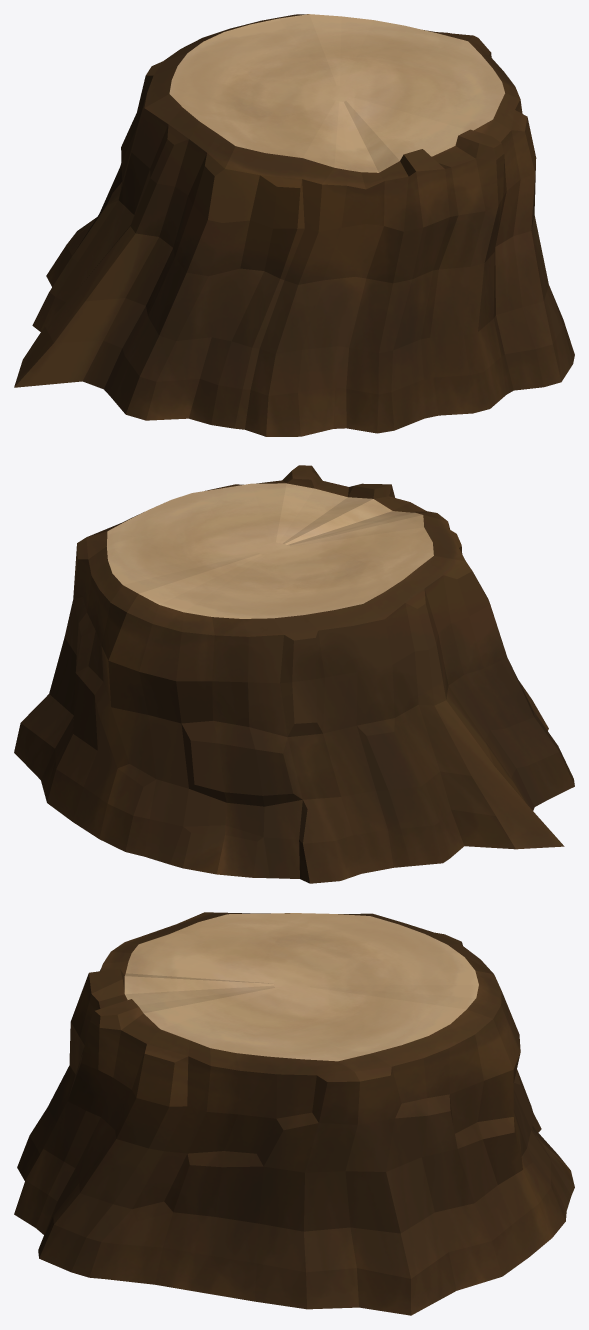
File: Log_B.fbx
3 renders of one model, top to bottom at view 1: azimuth 30°, elevation 25°; view 2: azimuth 150°, elevation 25°; view 3: azimuth 270°, elevation 25°, orthographic. The views are drawn at different scales.
Visible parts, largest first — view 1: Stump; view 2: Stump; view 3: Stump.
Boxes of the visible parts, x1,y1,x2,y2 form: Stump: (14,14,574,436); Stump: (14,465,574,883); Stump: (14,912,574,1315).
Bounding box in the file's own units: 478 × 200 × 433.
